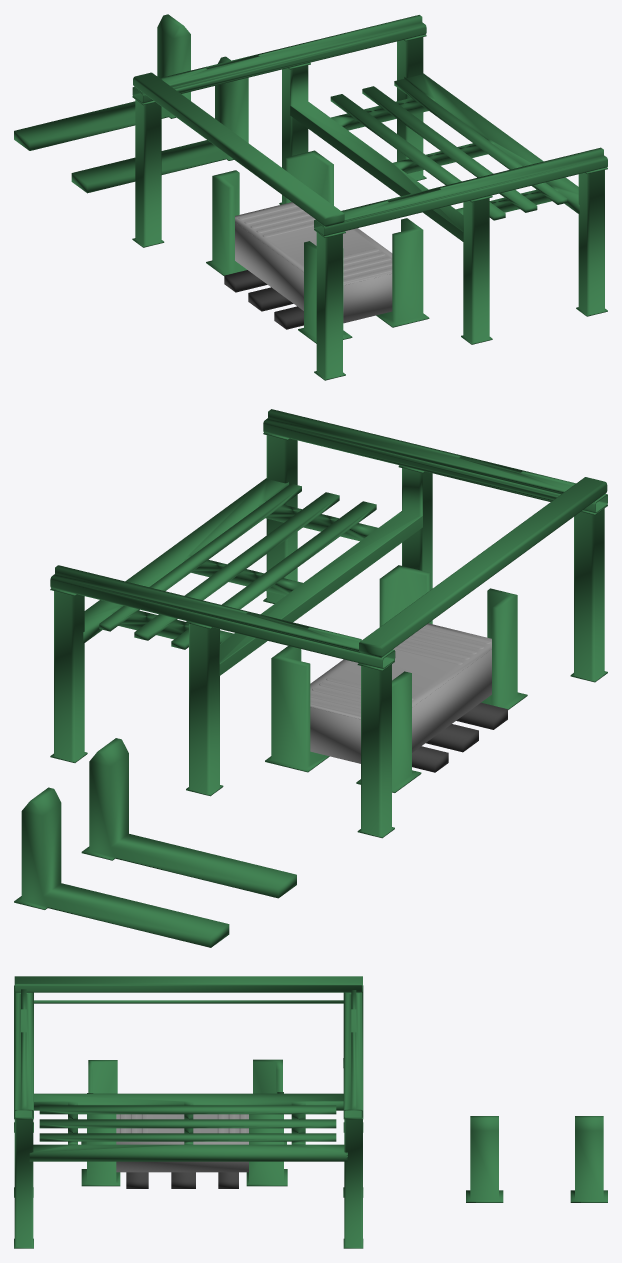
File: 上料机-静态.obj
The picture shows the model from 3 angles, top to bottom: view 1: azimuth 30°, elevation 25°; view 2: azimuth 150°, elevation 25°; view 3: azimuth 270°, elevation 25°; orthographic projection. The views are drawn at different scales.
Parts seen in each view (by area): view 1: 003, object 2, object 4, object 3; view 2: 003, object 2, object 4, object 3; view 3: 003, object 4, object 2, object 3.
Boxes of the visible parts, x1,y1,x2,y2 form: 003: (14, 14, 607, 380); object 2: (235, 202, 392, 323); object 4: (206, 150, 429, 343); object 3: (224, 270, 303, 329); 003: (14, 409, 607, 947); object 2: (310, 623, 491, 763); object 4: (265, 565, 527, 792); object 3: (412, 702, 507, 772); 003: (14, 976, 607, 1248); object 4: (81, 1059, 287, 1186); object 2: (116, 1114, 248, 1172); object 3: (126, 1172, 238, 1188).
Bounding box in the file's own units: 2702 × 1488 × 5410.
